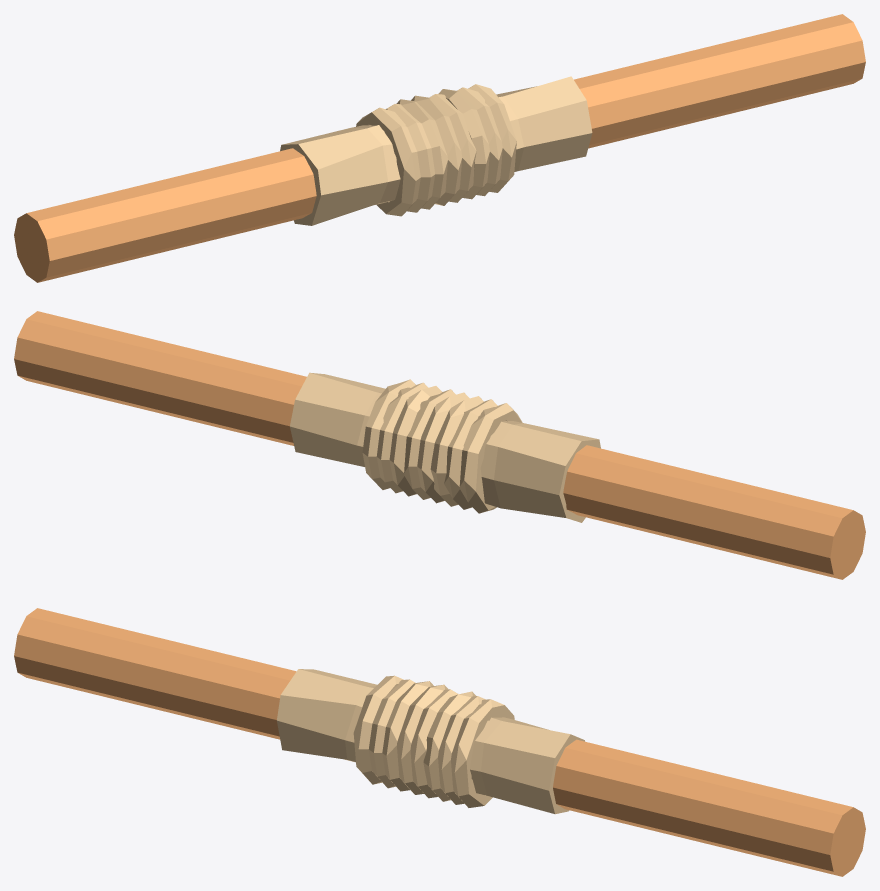
Rendered from catapult.charging_arm.fbx.
The picture shows the model from 3 angles, top to bottom: view 1: azimuth 30°, elevation 25°; view 2: azimuth 150°, elevation 25°; view 3: azimuth 330°, elevation 25°; orthographic projection.
Parts seen in each view (by area): view 1: catapult.charging_arm; view 2: catapult.charging_arm; view 3: catapult.charging_arm.
Boxes of the visible parts, <box> form: catapult.charging_arm: <box>14,14,865,282</box>; catapult.charging_arm: <box>14,311,865,579</box>; catapult.charging_arm: <box>14,608,865,876</box>.
Bounding box in the file's own units: 2.7 × 0.3276 × 0.3276.
